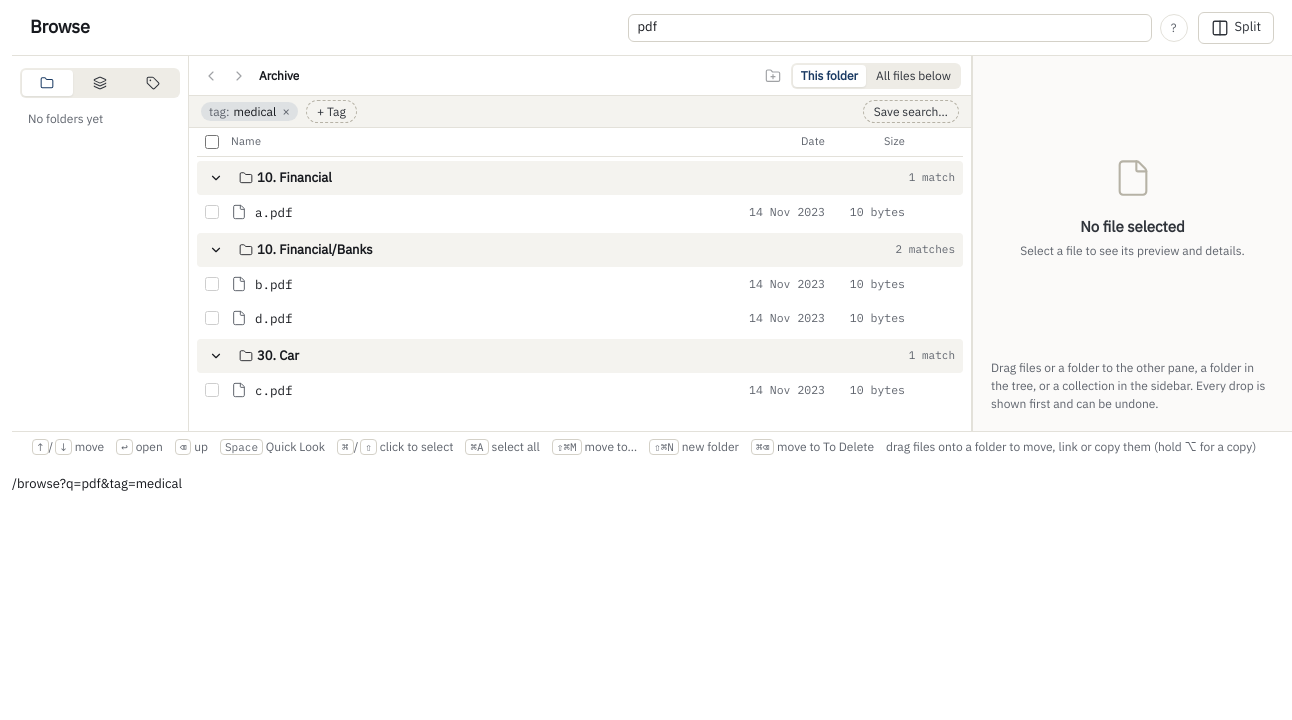
Scenario: Search results by folder › clicking the folder name opens that folder in Browse and leaves the search
Check: the list named "Search results" is shown, box [189,161,971,407]
Click the button with aria-label "Open folder 10. Financial/Banks" at [306, 250], box [235,239,376,262]
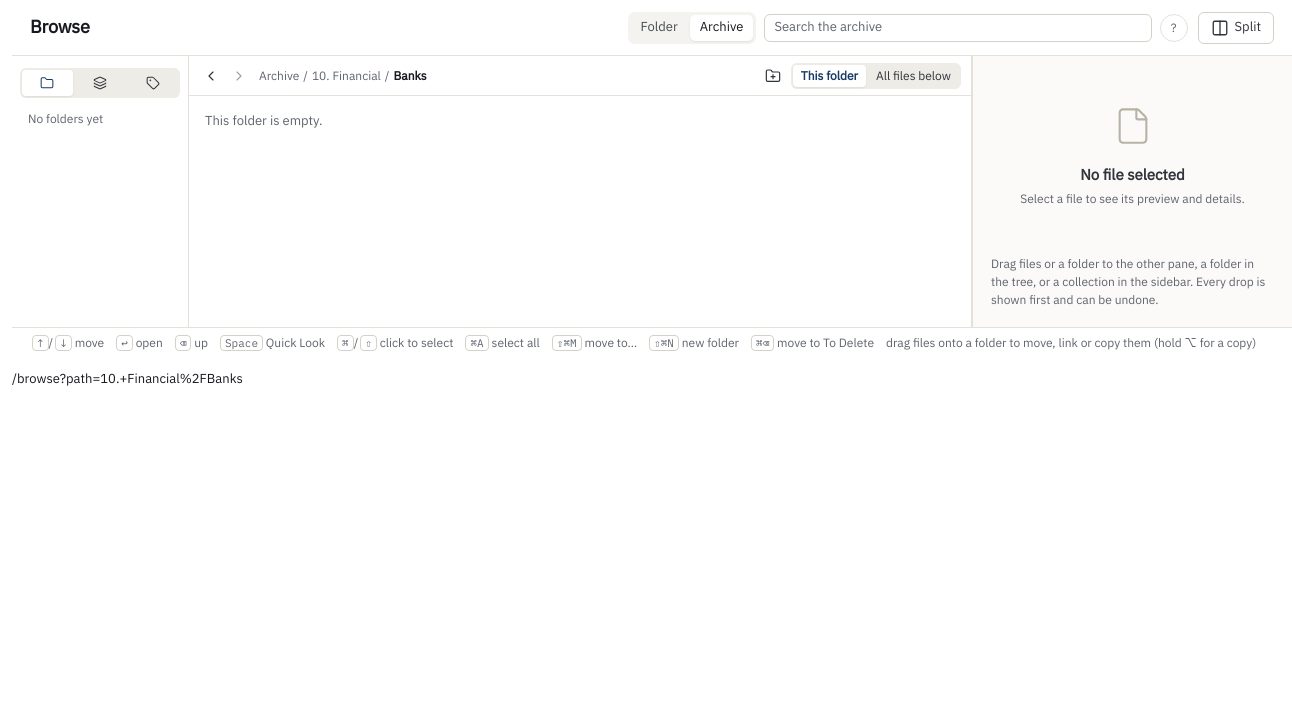
Check: the text with test id "where" reads "/browse?path=10.+Financial%2FBanks", box [12,370,243,387]
Check: the dropdown labelled "Search" is empty, box [764,14,1152,42]
